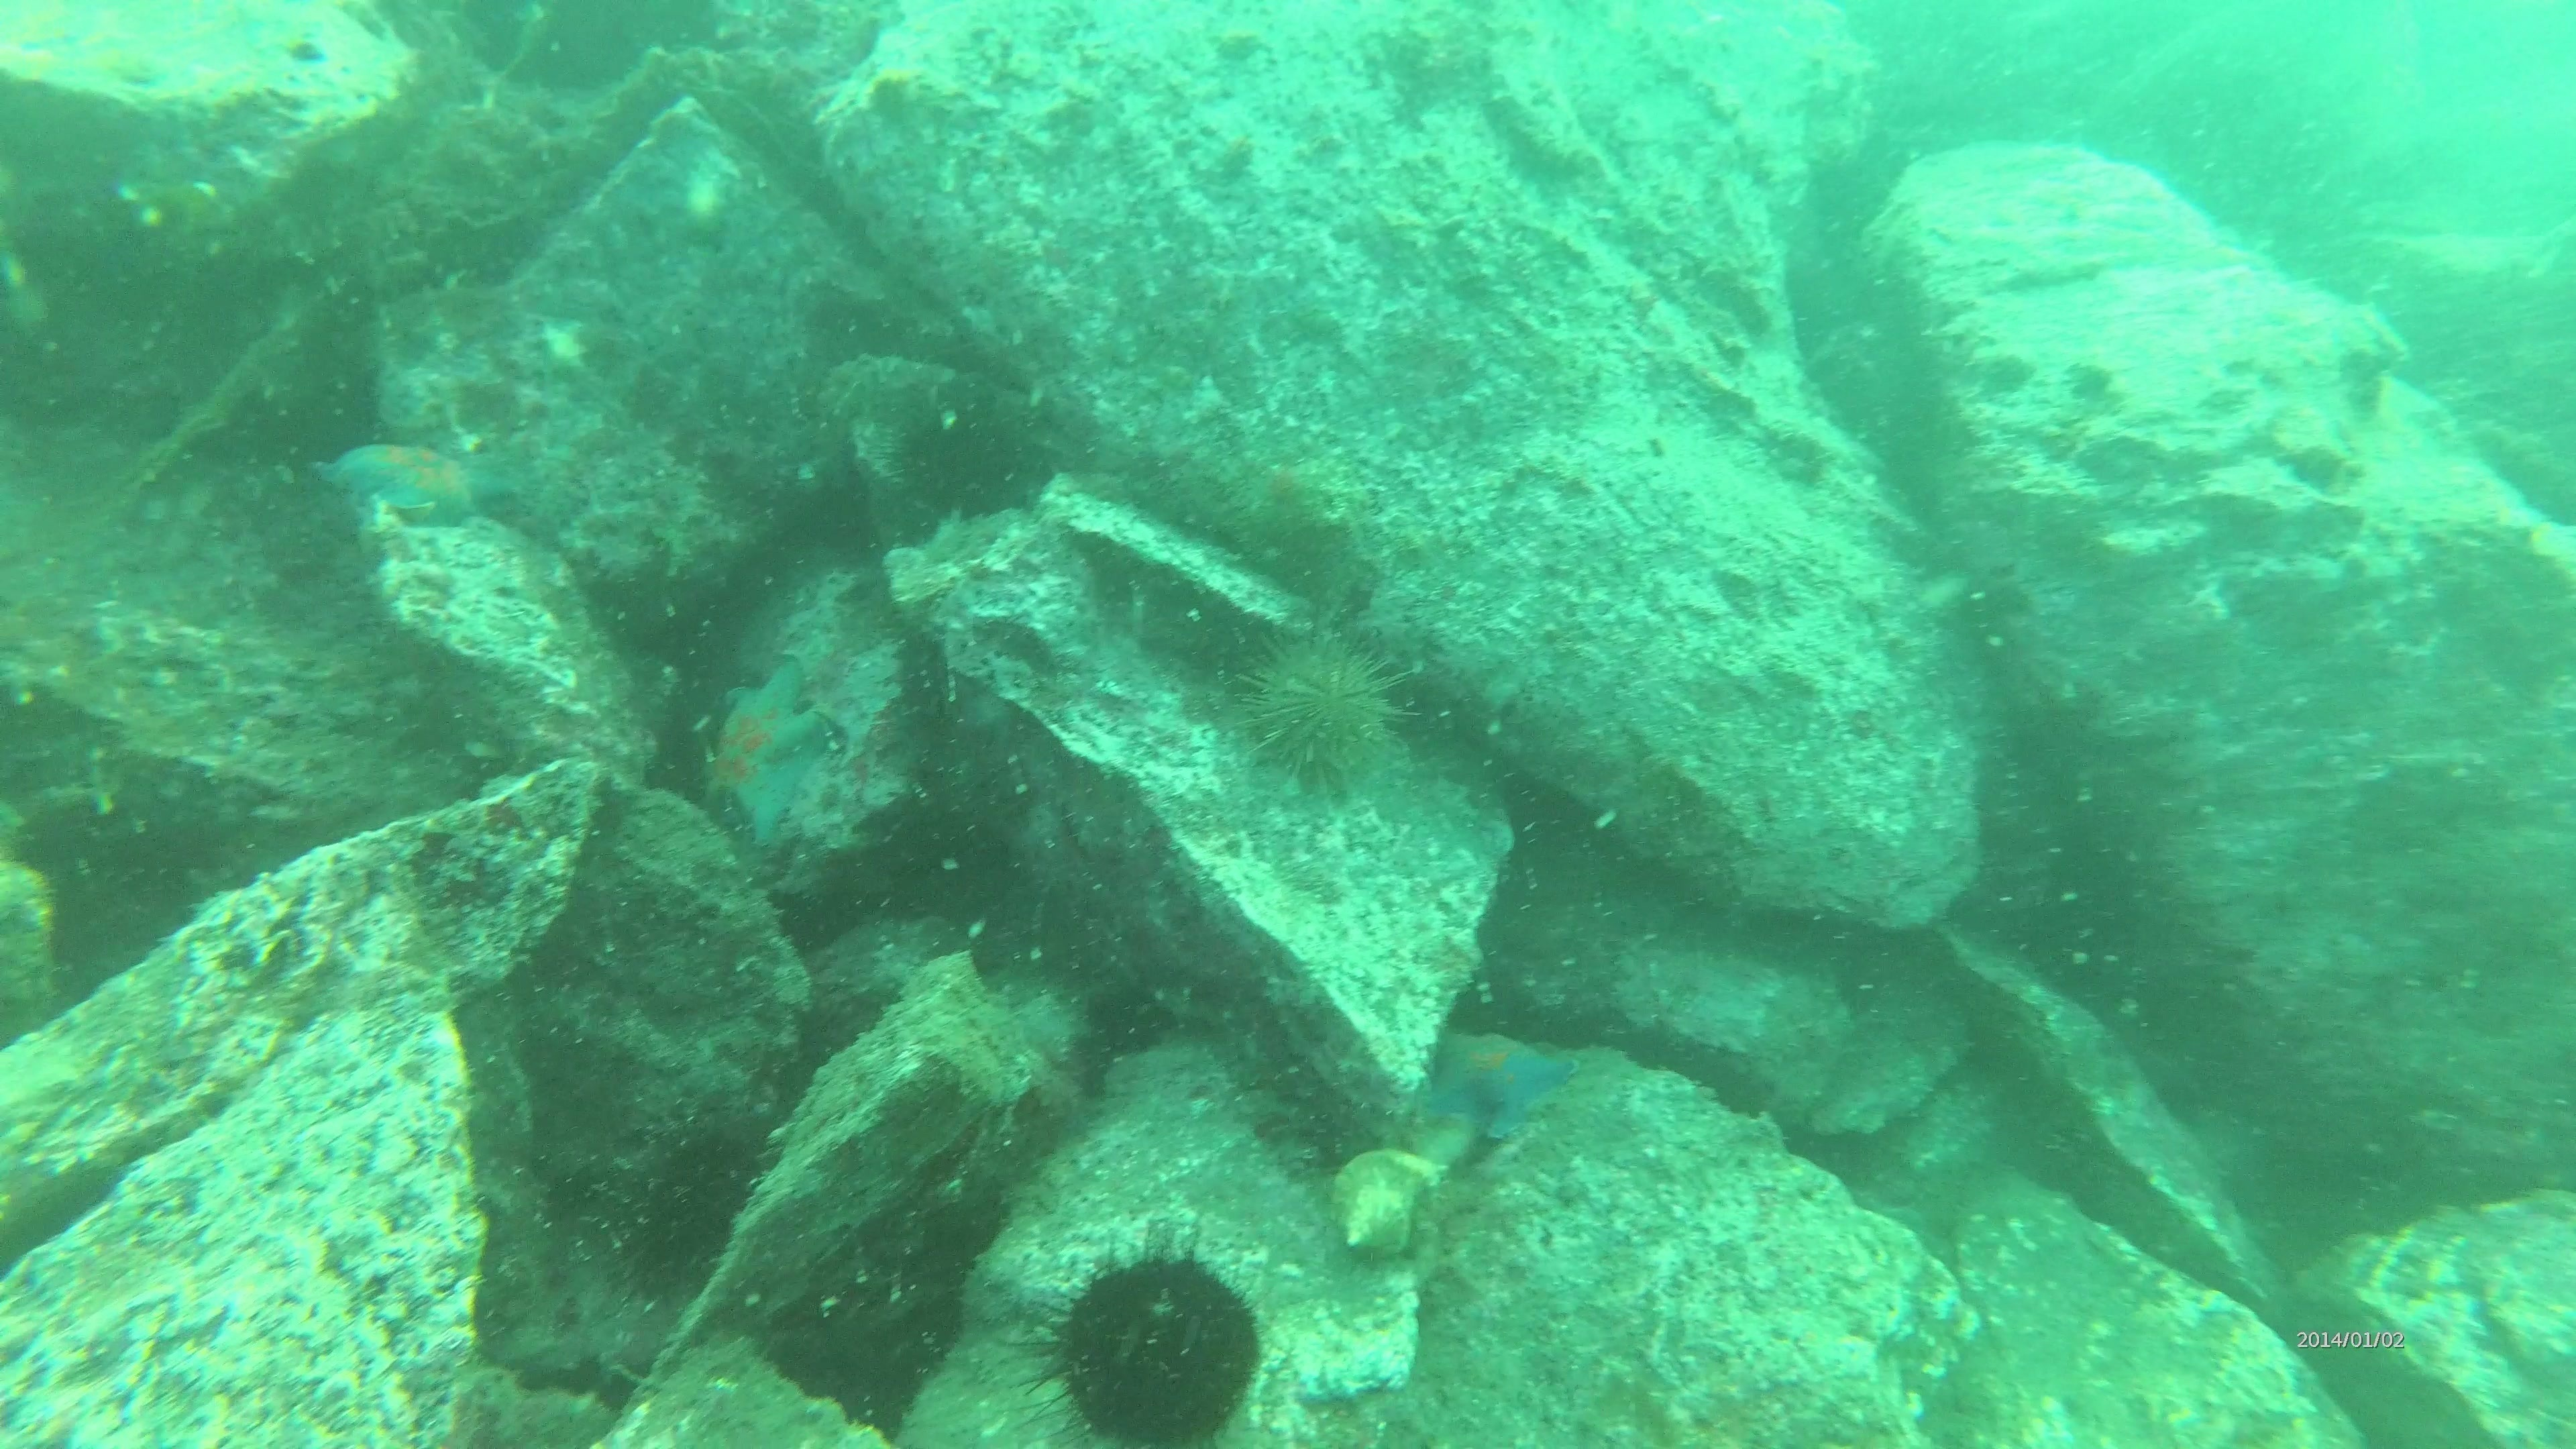echinus: (1028, 1233, 1276, 1444), (609, 1118, 782, 1311), (1226, 621, 1412, 796), (886, 386, 1049, 525)
starfish: (688, 655, 842, 853), (1414, 1016, 1582, 1145), (315, 432, 520, 536)
